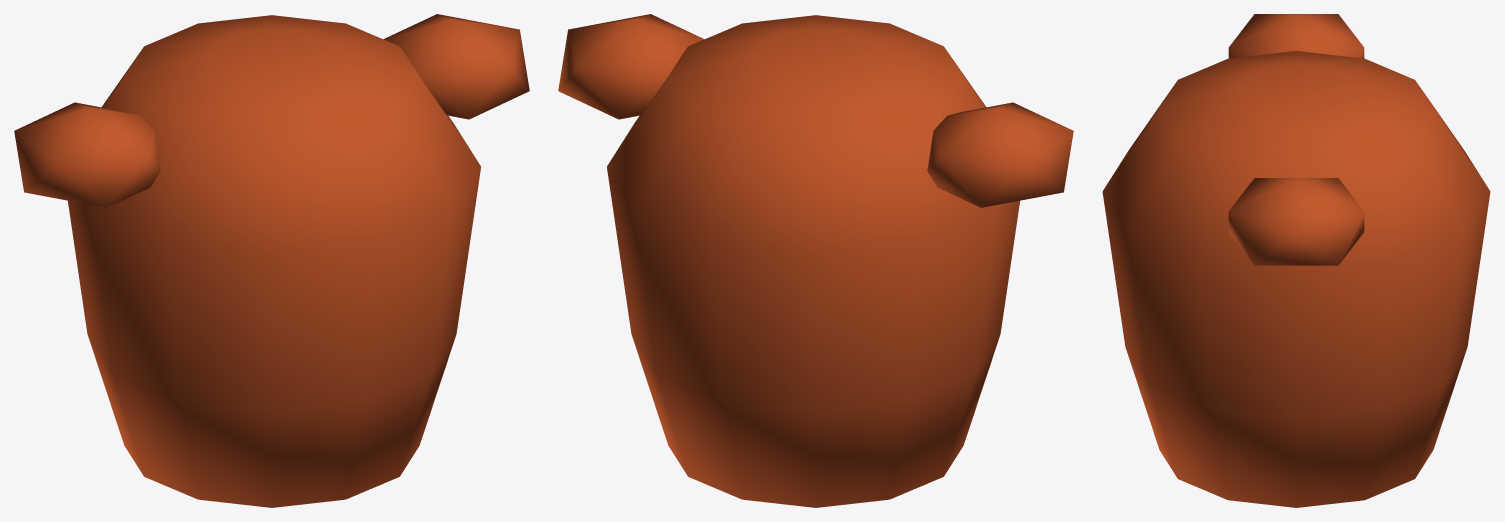
File: cinder_chainmail.glb
The picture shows the model from 3 angles, left to right: view 1: azimuth 30°, elevation 25°; view 2: azimuth 150°, elevation 25°; view 3: azimuth 270°, elevation 25°; orthographic projection. The views are drawn at different scales.
Visible parts, largest first — view 1: cinder_chainmail_v0; view 2: cinder_chainmail_v0; view 3: cinder_chainmail_v0.
Part boxes in pixels (box(x1,y1,x2,y2)): cinder_chainmail_v0: box(14, 14, 529, 507); cinder_chainmail_v0: box(558, 14, 1073, 507); cinder_chainmail_v0: box(1102, 14, 1490, 507).
Bounding box in the file's own units: 0.4652 × 0.35 × 0.34.
